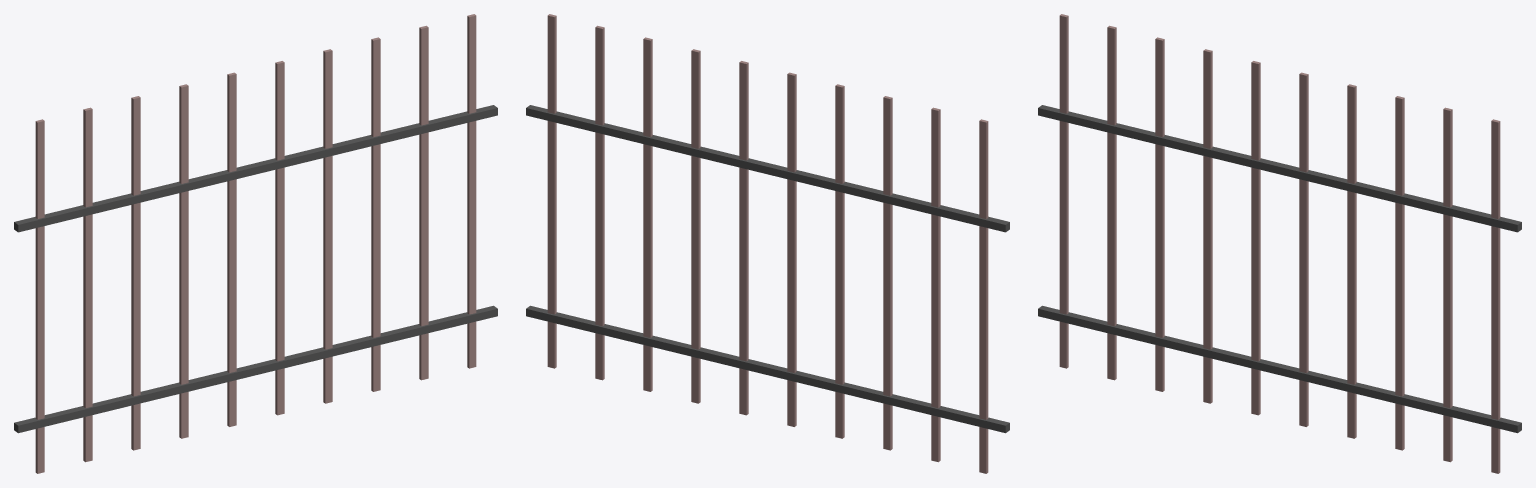
File: Outer Fence.fbx
The picture shows the model from 3 angles, left to right: view 1: azimuth 30°, elevation 25°; view 2: azimuth 150°, elevation 25°; view 3: azimuth 330°, elevation 25°; orthographic projection.
Visible parts, largest first — view 1: Outer Fence; view 2: Outer Fence; view 3: Outer Fence.
Part boxes in pixels (bbox=[...]): Outer Fence: bbox=[14, 14, 497, 473]; Outer Fence: bbox=[526, 14, 1009, 473]; Outer Fence: bbox=[1038, 14, 1521, 473].
Bounding box in the file's own units: 2000 × 1400 × 30.
